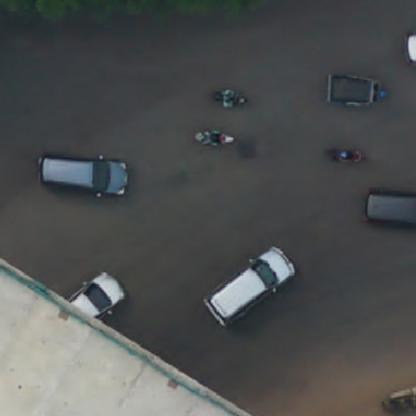car: (203, 246, 297, 326), (36, 150, 132, 201), (59, 274, 129, 324), (360, 184, 415, 230), (408, 33, 415, 72)
motorcycle: (325, 66, 389, 110), (325, 144, 371, 169), (210, 85, 249, 114), (190, 130, 238, 150)
